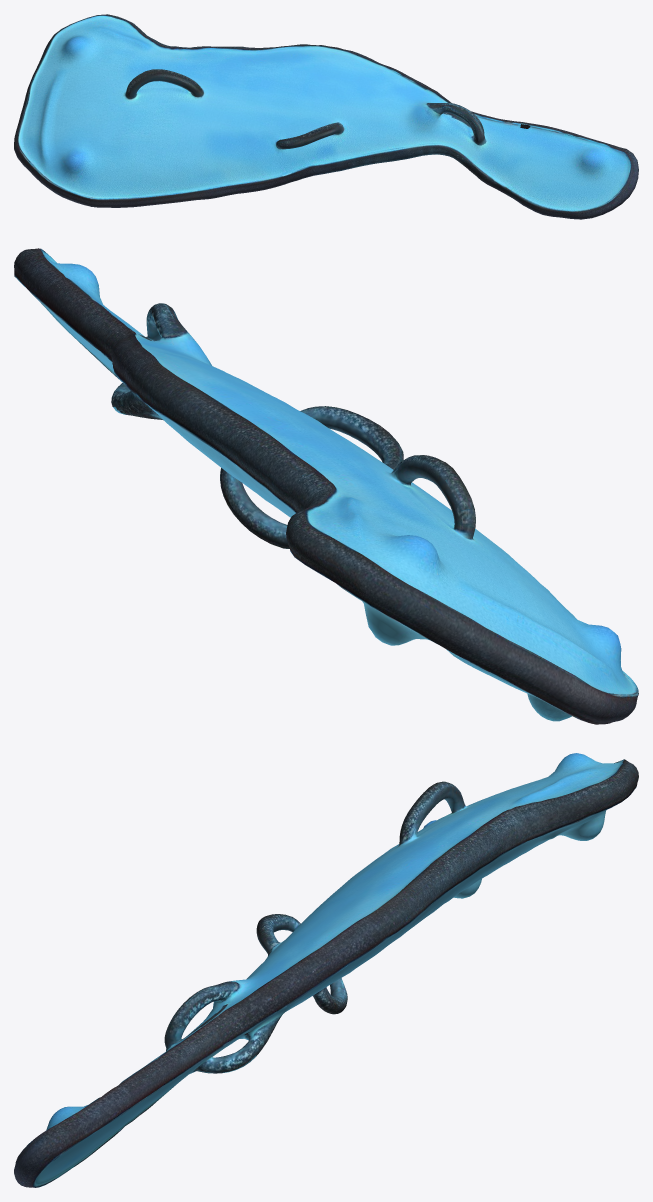
File: cloud-slime.glb
3 views of the same model, one above another, from view 1: azimuth 30°, elevation 25°; view 2: azimuth 150°, elevation 25°; view 3: azimuth 270°, elevation 25° (orthographic). The views are drawn at different scales.
Parts seen in each view (by area): view 1: tripo_node_cfb06803-77cf-4a64-9142-a71ed2daeb29; view 2: tripo_node_cfb06803-77cf-4a64-9142-a71ed2daeb29; view 3: tripo_node_cfb06803-77cf-4a64-9142-a71ed2daeb29.
Boxes of the visible parts, box(x1,y1,x2,y2) form: tripo_node_cfb06803-77cf-4a64-9142-a71ed2daeb29: box(14, 14, 638, 219); tripo_node_cfb06803-77cf-4a64-9142-a71ed2daeb29: box(14, 248, 638, 724); tripo_node_cfb06803-77cf-4a64-9142-a71ed2daeb29: box(14, 753, 638, 1187).
Bounding box in the file's own units: 0.9772 × 0.27 × 0.7729.
Materials: 1 (1 with a texture image).
